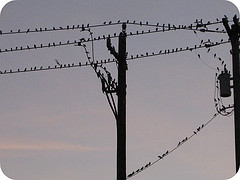pole: (104, 31, 134, 178), (214, 18, 239, 179)
